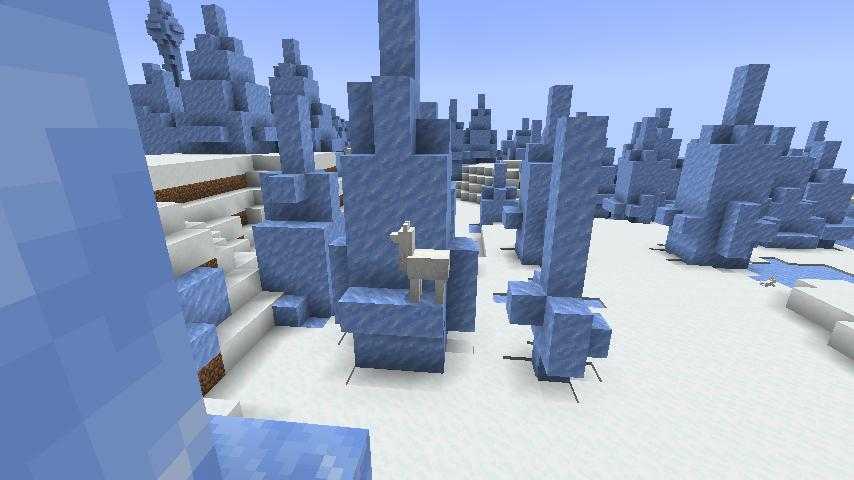llama: (389, 219, 451, 305)
